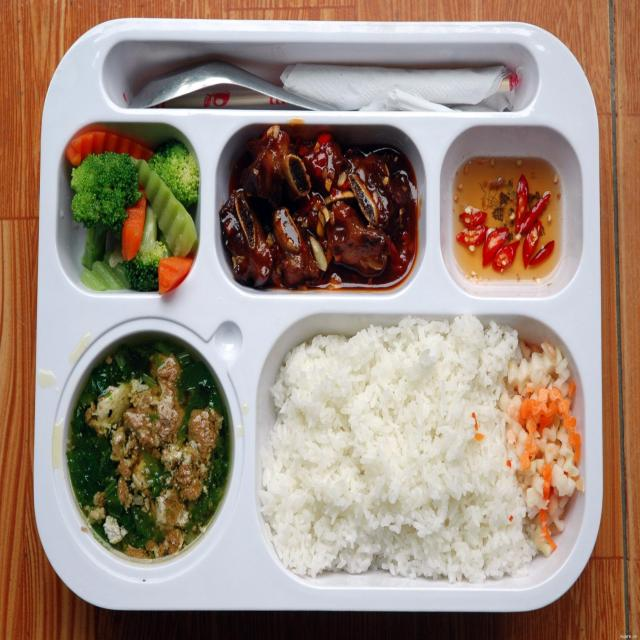ca rot: (65, 126, 153, 167), (122, 194, 147, 260), (159, 252, 194, 294)
canh cai: (66, 342, 230, 559)
com: (260, 315, 537, 580)
do chua: (499, 341, 584, 556)
nuoc mam: (452, 157, 563, 287)
rau: (70, 152, 172, 292), (132, 159, 197, 257), (140, 141, 199, 211)
suon xao: (219, 126, 418, 290)
